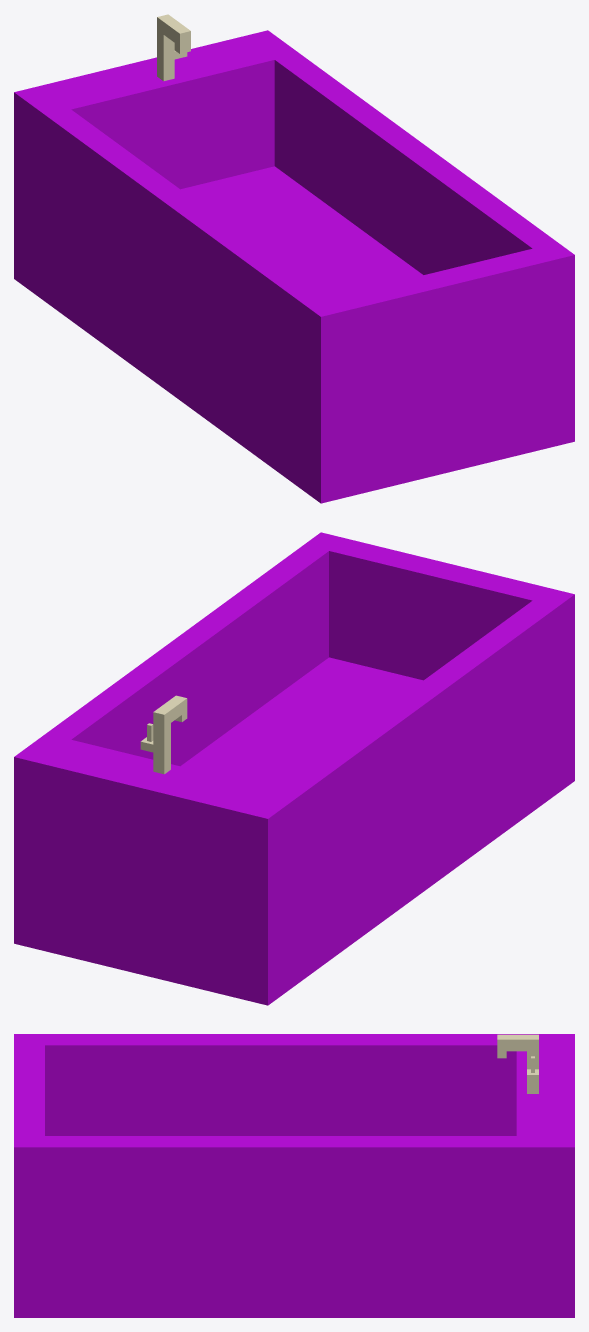
Rendered from Bath.fbx.
3 renders of one model, top to bottom at view 1: azimuth 30°, elevation 25°; view 2: azimuth 150°, elevation 25°; view 3: azimuth 270°, elevation 25°, orthographic. The views are drawn at different scales.
Visible parts, largest first — view 1: Bath, Tap; view 2: Bath, Tap; view 3: Bath, Tap.
Boxes of the visible parts, x1,y1,x2,y2 form: Bath: [14, 30, 574, 503]; Tap: [157, 14, 190, 81]; Bath: [14, 532, 574, 1005]; Tap: [140, 695, 187, 774]; Bath: [14, 1034, 574, 1317]; Tap: [497, 1034, 538, 1093].
Bounding box in the file's own units: 139 × 129 × 291.
